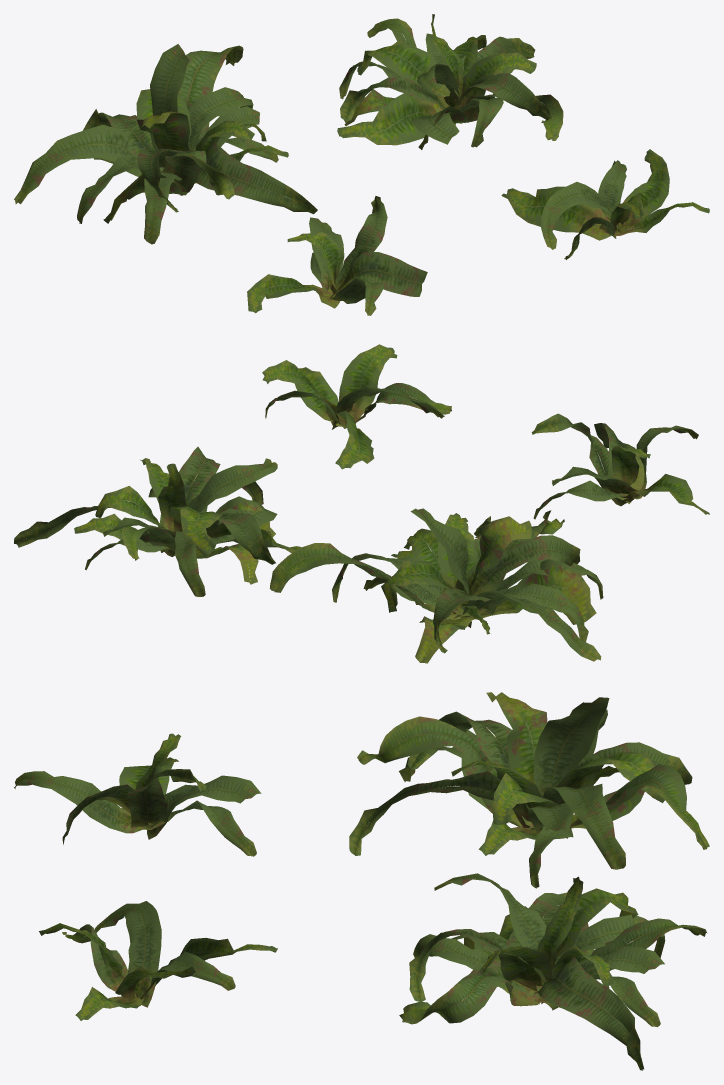
The model's file is WorldFern.fbx.
3 views of the same model, one above another, from view 1: azimuth 30°, elevation 25°; view 2: azimuth 150°, elevation 25°; view 3: azimuth 270°, elevation 25° (orthographic). The views are drawn at different scales.
Parts seen in each view (by area): view 1: WorldFern; view 2: WorldFern; view 3: WorldFern.
Part boxes in pixels (x1,y1,x2,y2): WorldFern: (14, 14, 709, 315); WorldFern: (14, 344, 709, 663); WorldFern: (14, 692, 709, 1070).
Size of the model in its own units: 9.23 by 2 by 8.06.
Materials: 1 (1 with a texture image).
